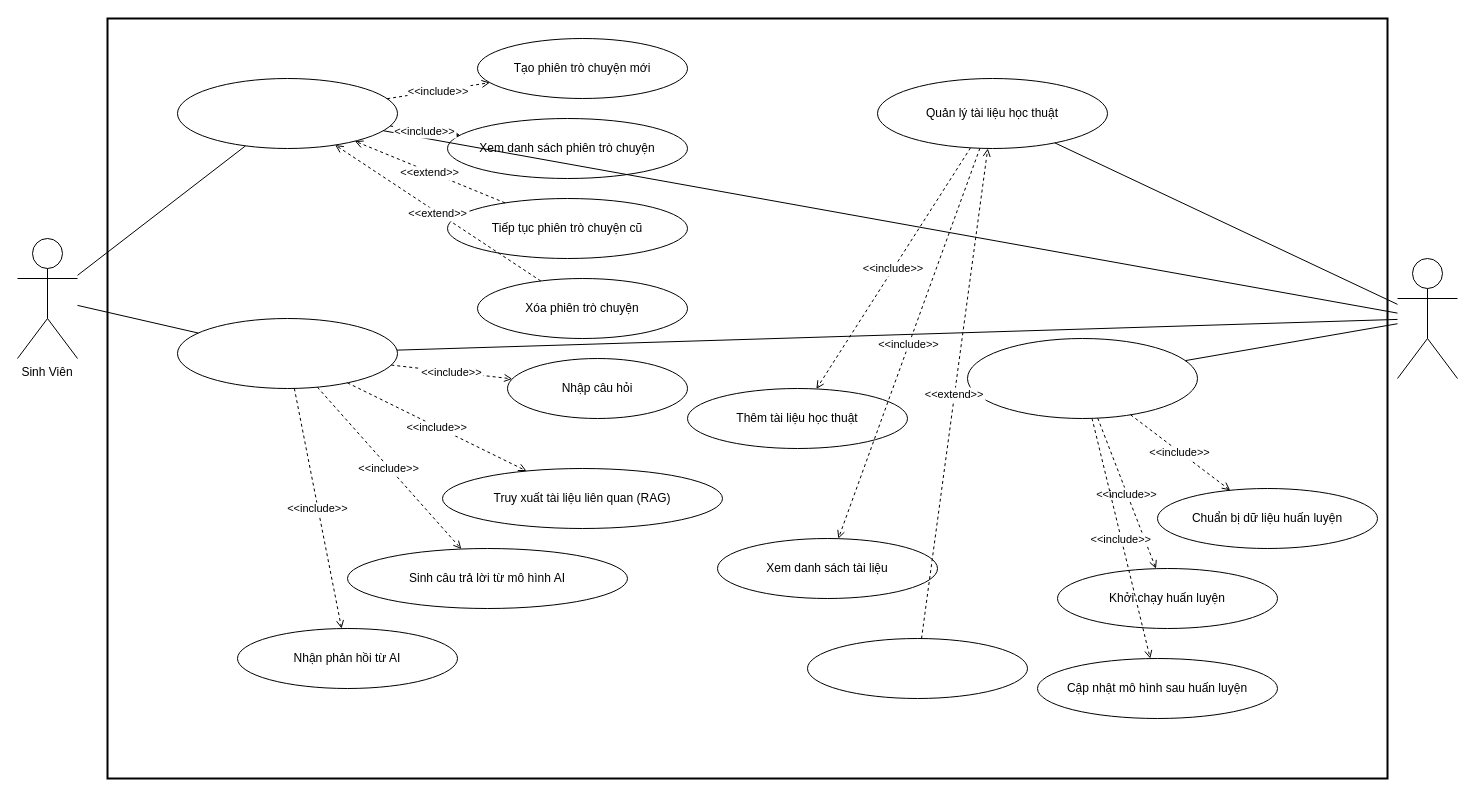
Some shapes in this 1475 by 796 pixel diagram are drawn without their labels. Each missing label, with the centre of its shape:
"Giảng Viên" belongs at point 1427,318.
"Huấn luyện mô hình Fine-Tuning" belongs at point 1082,378.
"Quản lý phiên trò chuyện" belongs at point 287,113.
"Trò chuyện với Chatbot AI" belongs at point 287,353.
"Xóa tài liệu học thuật" belongs at point 917,668.
